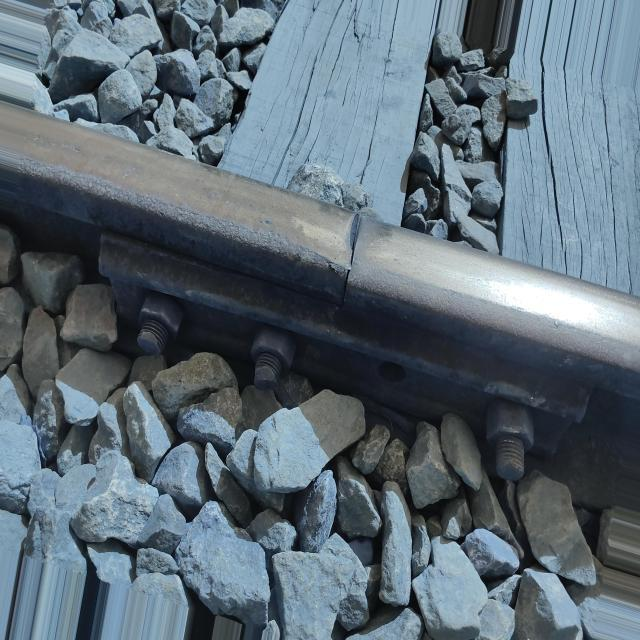Defective Joint: (100, 233, 589, 455)
